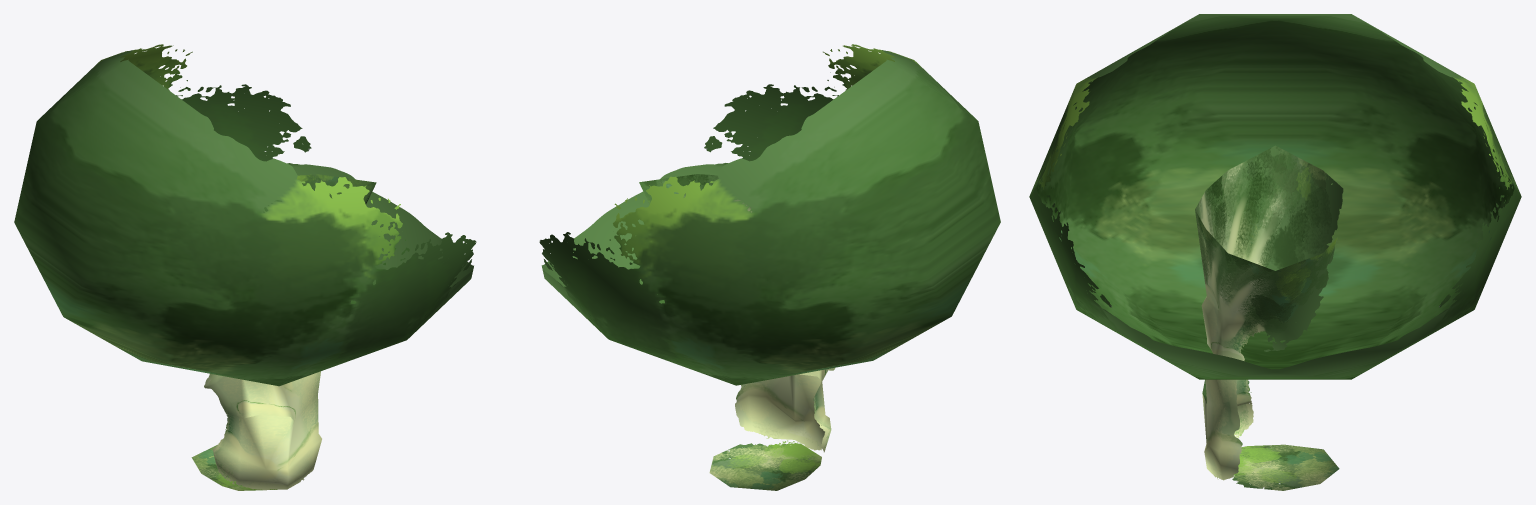
File: Broccoli Shadowcaster.fbx
3 renders of one model, left to right at view 1: azimuth 30°, elevation 25°; view 2: azimuth 150°, elevation 25°; view 3: azimuth 270°, elevation 25°, orthographic. The views are drawn at different scales.
Parts seen in each view (by area): view 1: BroccoliLeaves, Broccoli; view 2: BroccoliLeaves, Broccoli; view 3: BroccoliLeaves, Broccoli.
Part boxes in pixels (x1,y1,x2,y2): BroccoliLeaves: (14, 44, 476, 386); Broccoli: (191, 174, 376, 490); BroccoliLeaves: (539, 44, 1000, 385); Broccoli: (639, 174, 835, 490); BroccoliLeaves: (1029, 14, 1521, 379); Broccoli: (1195, 145, 1343, 490).
Bounding box in the file's own units: 701 × 698 × 718.
